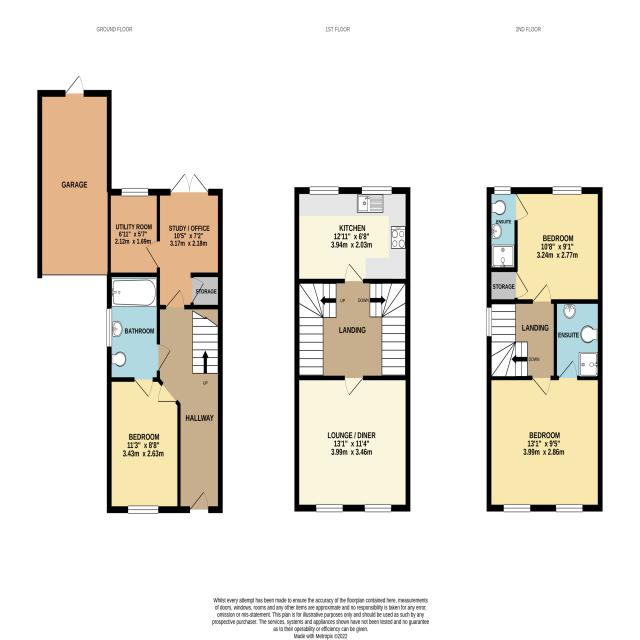DOOR: (531, 375, 552, 397), (189, 490, 209, 513), (558, 358, 578, 380), (344, 375, 364, 397), (158, 381, 178, 403), (165, 288, 185, 310), (145, 240, 160, 269), (514, 193, 529, 221), (532, 283, 552, 304), (344, 263, 364, 284), (157, 343, 171, 372), (134, 377, 153, 398)
DOUBLE DOOR: (169, 171, 209, 196)
ROOM: (486, 359, 603, 512), (294, 375, 411, 512), (486, 187, 603, 304), (294, 186, 411, 284), (146, 173, 223, 310), (107, 377, 181, 513)
WINDOW: (127, 505, 159, 515), (503, 503, 531, 513), (555, 503, 583, 513), (121, 187, 149, 197), (106, 308, 113, 347), (552, 186, 582, 195), (316, 503, 343, 513), (364, 503, 391, 513), (309, 186, 339, 195), (362, 186, 392, 195), (486, 307, 492, 337), (494, 186, 511, 195)
